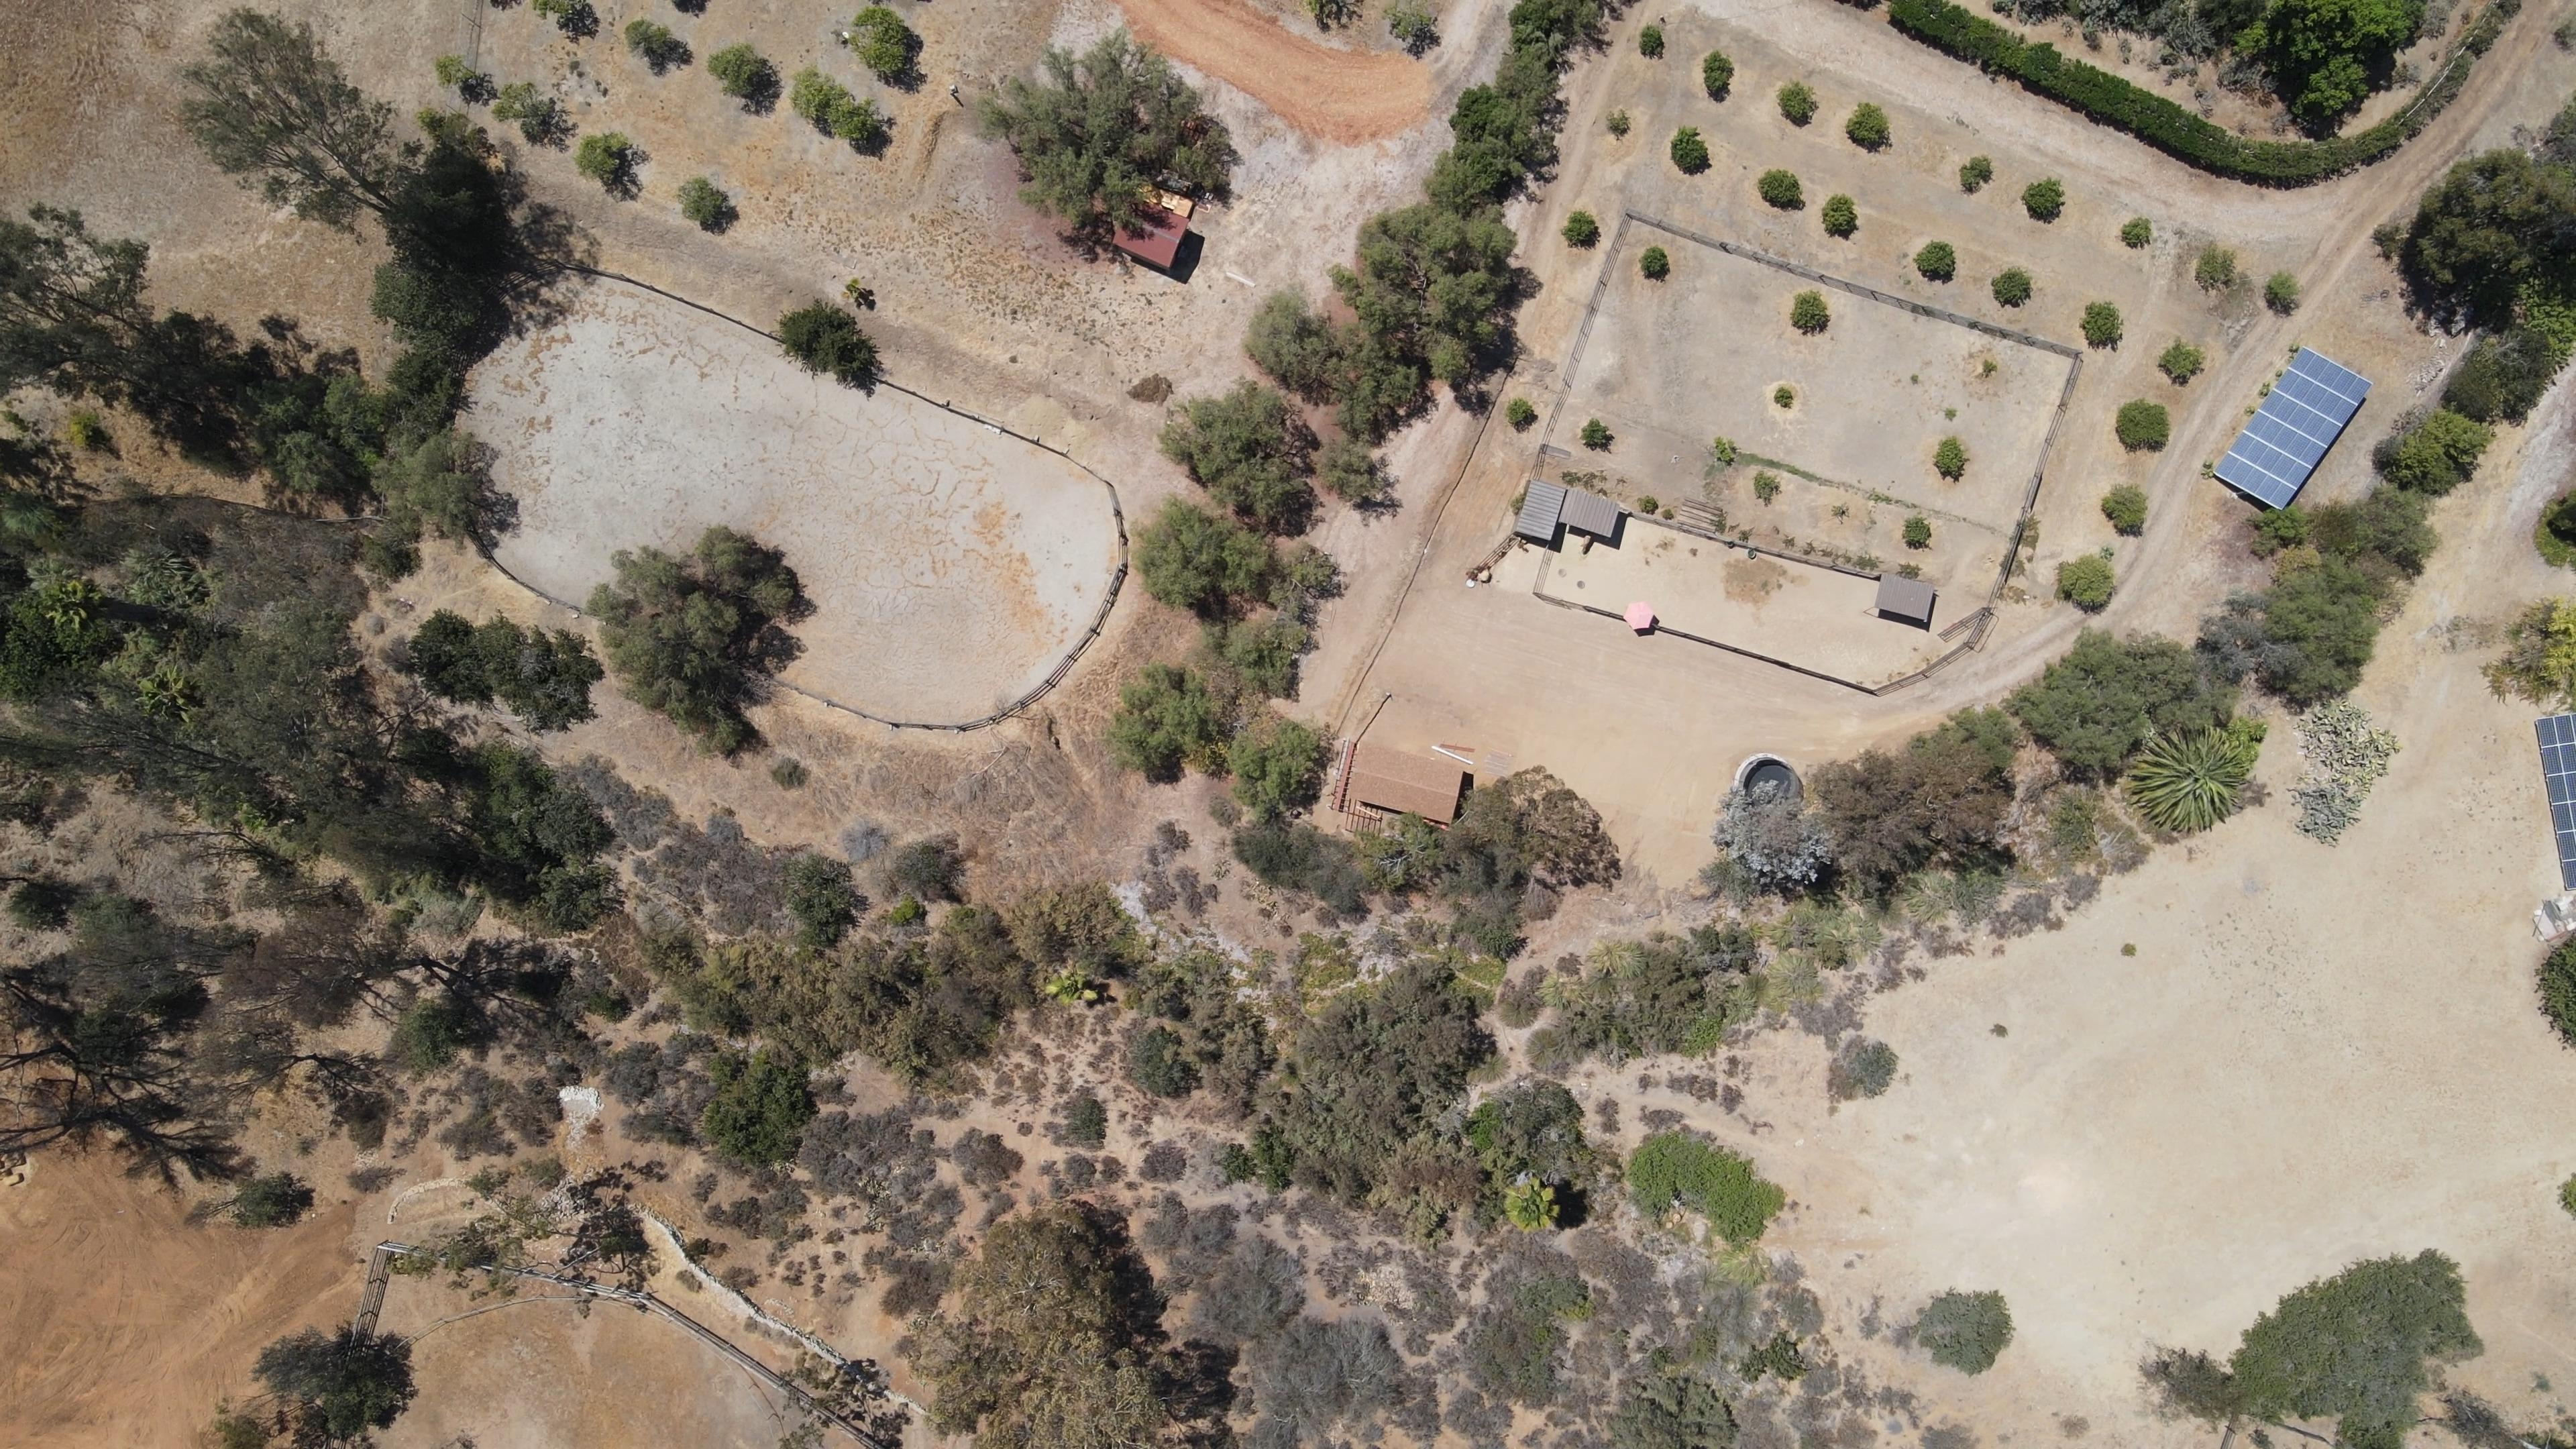panel: (2213, 345, 2373, 510)
